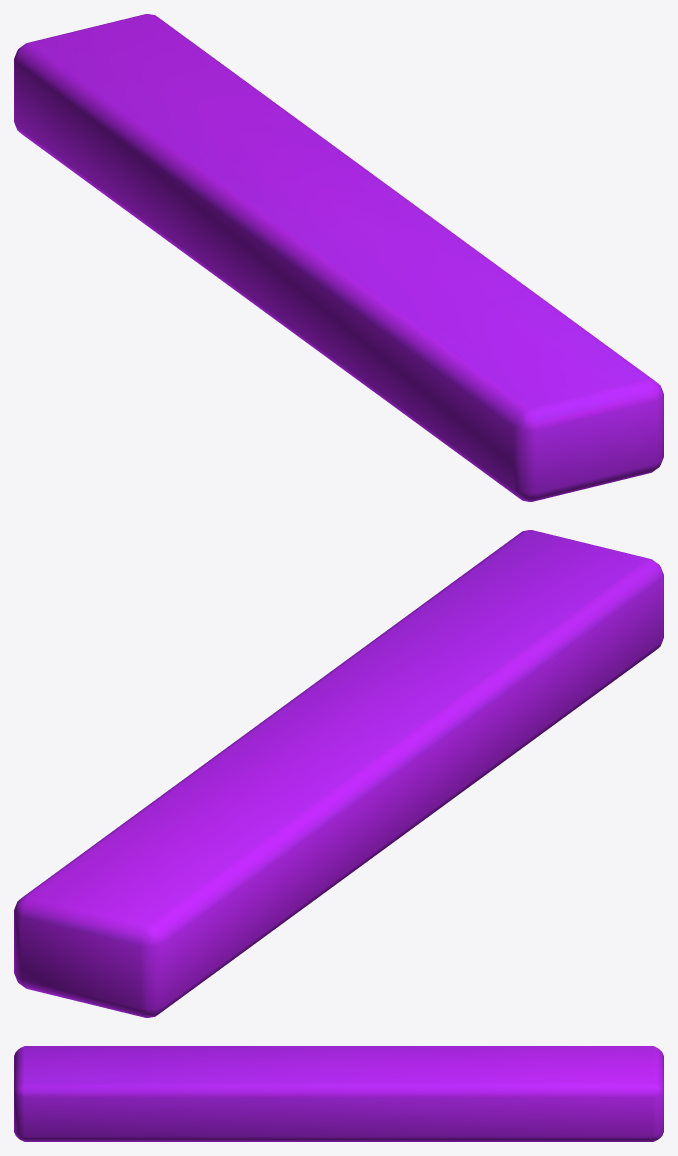
File: LongBlockPink.fbx
3 views of the same model, one above another, from view 1: azimuth 30°, elevation 25°; view 2: azimuth 150°, elevation 25°; view 3: azimuth 270°, elevation 25° (orthographic). The views are drawn at different scales.
Visible parts, largest first — view 1: LongBlock; view 2: LongBlock; view 3: LongBlock.
Boxes of the visible parts, bbox=[...] form: LongBlock: bbox=[14, 14, 663, 501]; LongBlock: bbox=[14, 530, 663, 1017]; LongBlock: bbox=[14, 1046, 663, 1141].
Bounding box in the file's own units: 2 × 1.2 × 12.
